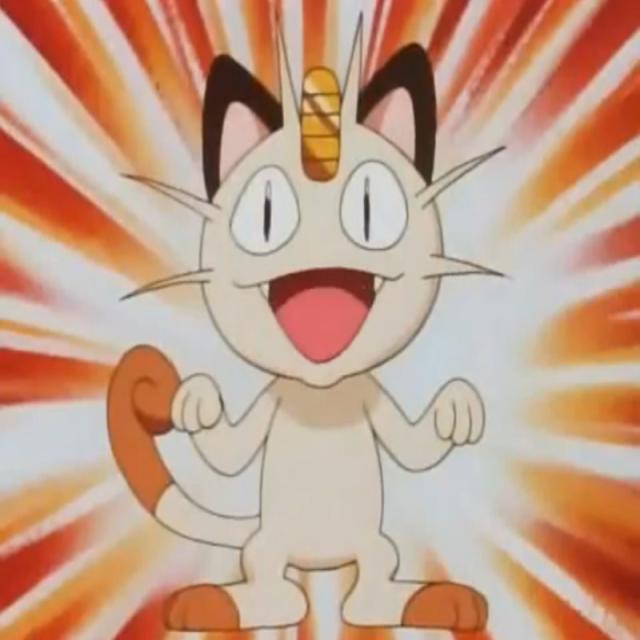Meowth: (190, 46, 446, 623)
